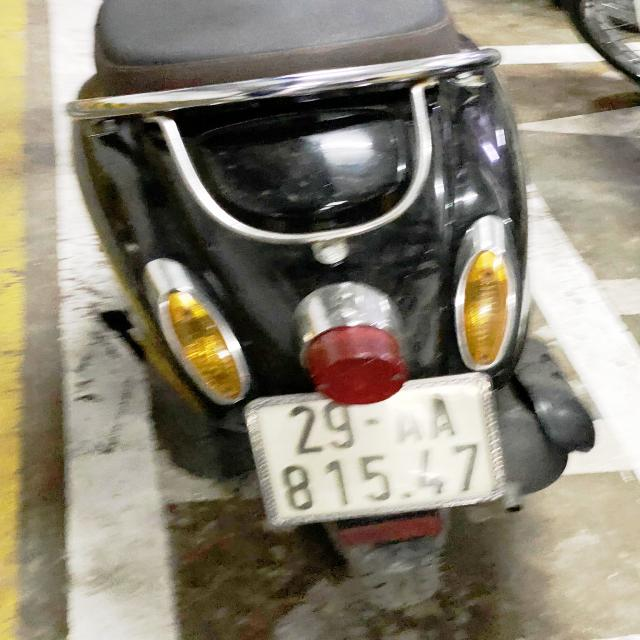license_plate: (230, 363, 522, 541)
